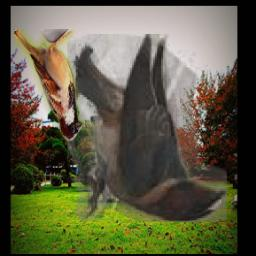Sparrow: (13, 30, 83, 142)
Swallow: (67, 34, 227, 222)
